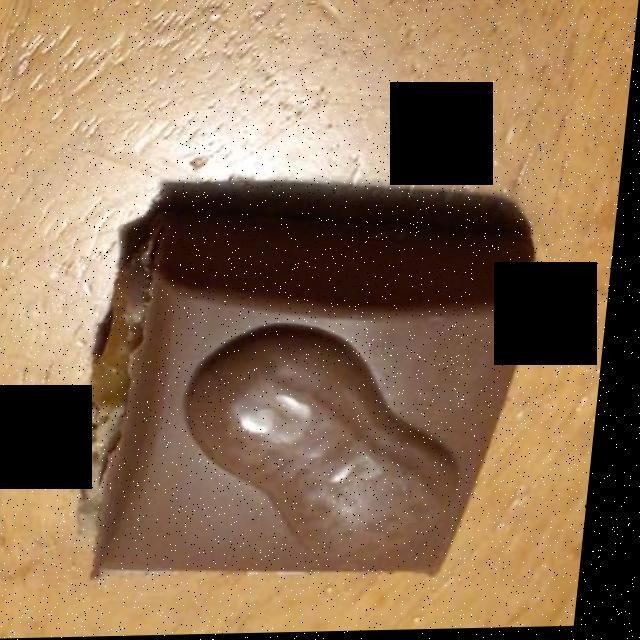nuts: (61, 240, 550, 576)
